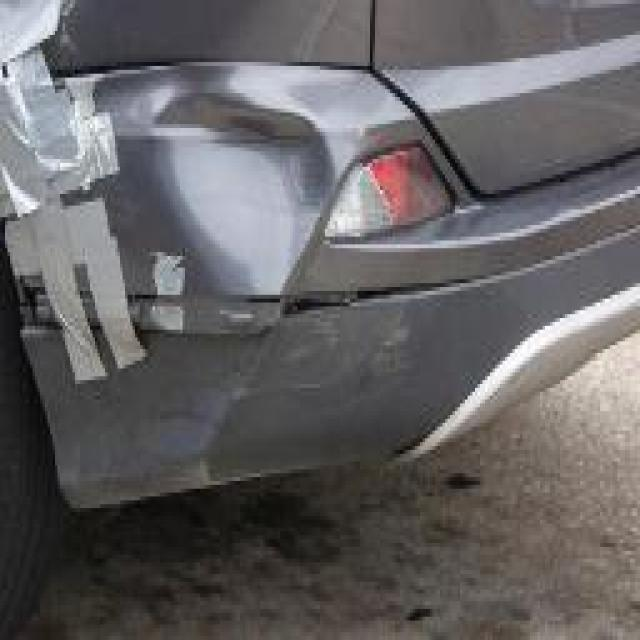Bumper: (125, 74, 408, 450)
